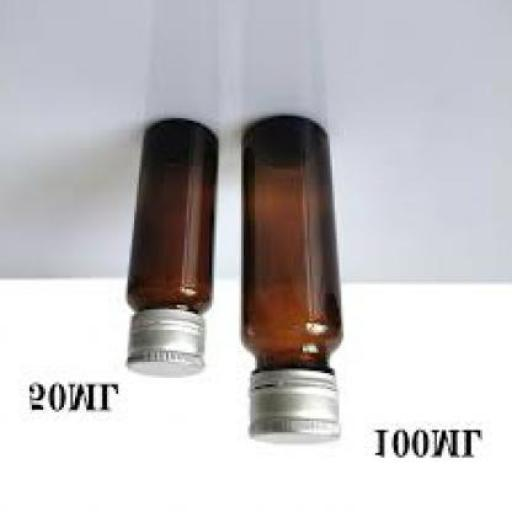glass: (239, 118, 341, 376), (125, 116, 213, 316)
metal: (248, 374, 339, 446), (125, 312, 202, 380)
